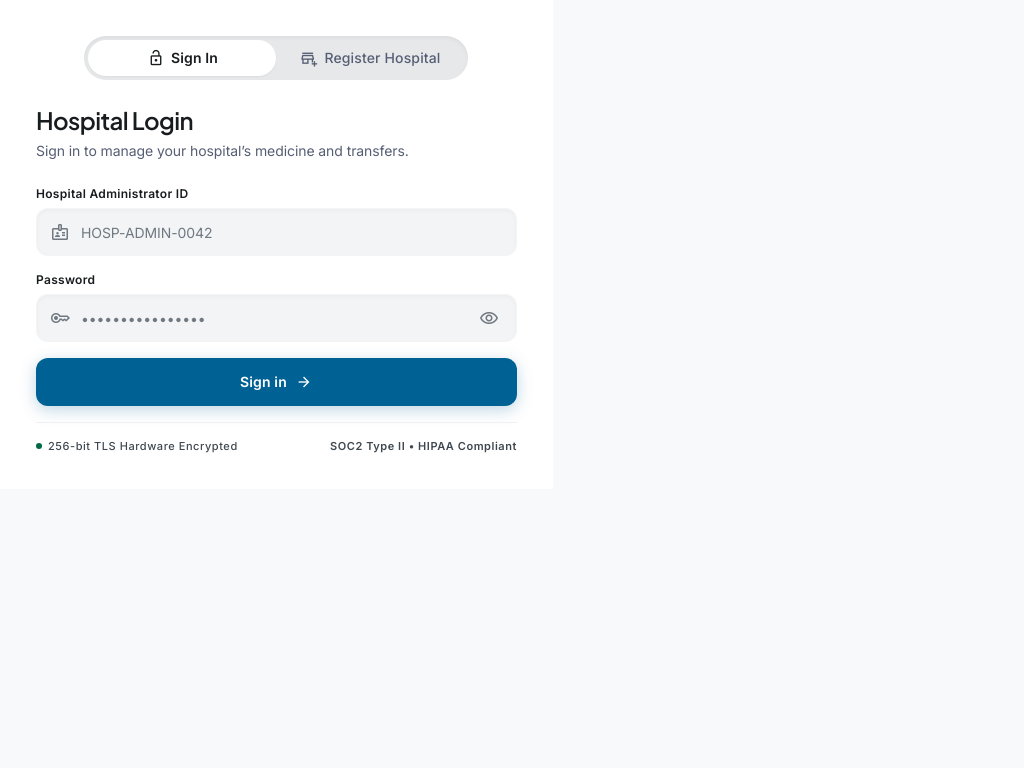
Test: PulseGrid Control Tower Test Suite › AuthFormPanel Component › validates password mismatch during hospital registration
The image size is (1024, 768).
Click the button "Register Hospital" at {"x": 370, "y": 58}, box [276,40,464,76]
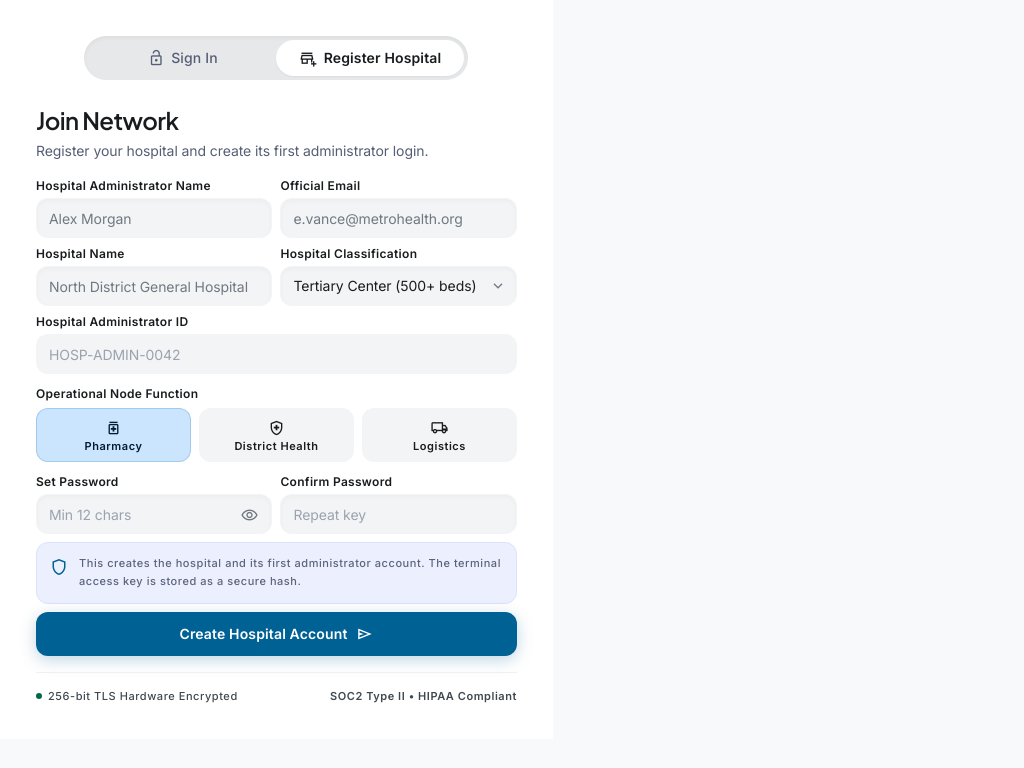
Type "Dr. Elena Vance" into the field labelled "Hospital Administrator Name" at {"x": 154, "y": 218}, box [36,198,272,238]
Type "elena@metrohealth.org" into the field labelled "Official Email" at {"x": 399, "y": 218}, box [280,198,517,238]
Type "Metro General" into the field labelled "Hospital Name" at {"x": 154, "y": 286}, box [36,266,272,306]
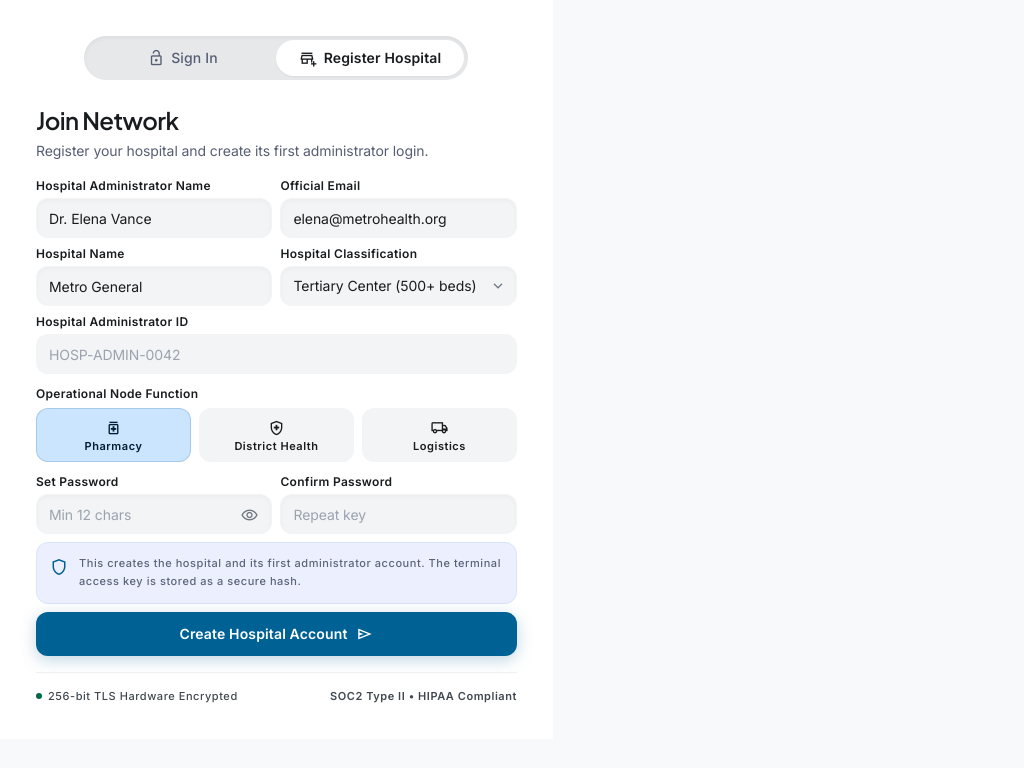
Type "METRO-ADMIN-001" into the field labelled "Hospital Administrator ID" at {"x": 276, "y": 354}, box [36,334,517,374]
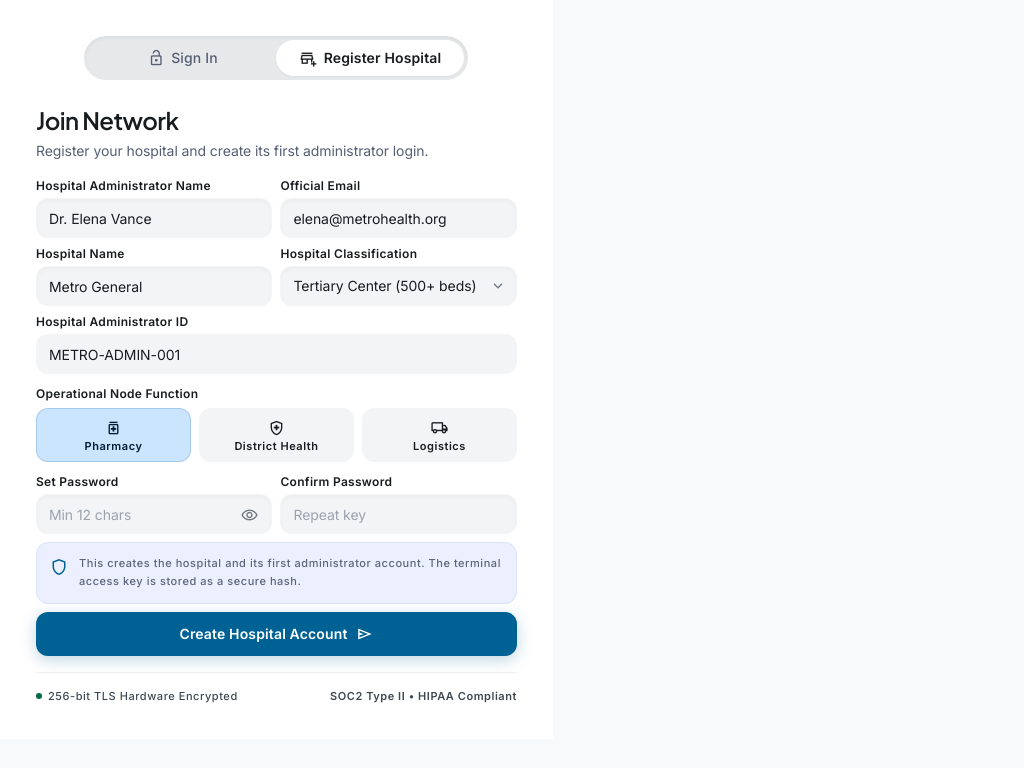
Type "Password1234!" into the password field labelled "Set Password" at {"x": 154, "y": 514}, box [36,494,272,534]
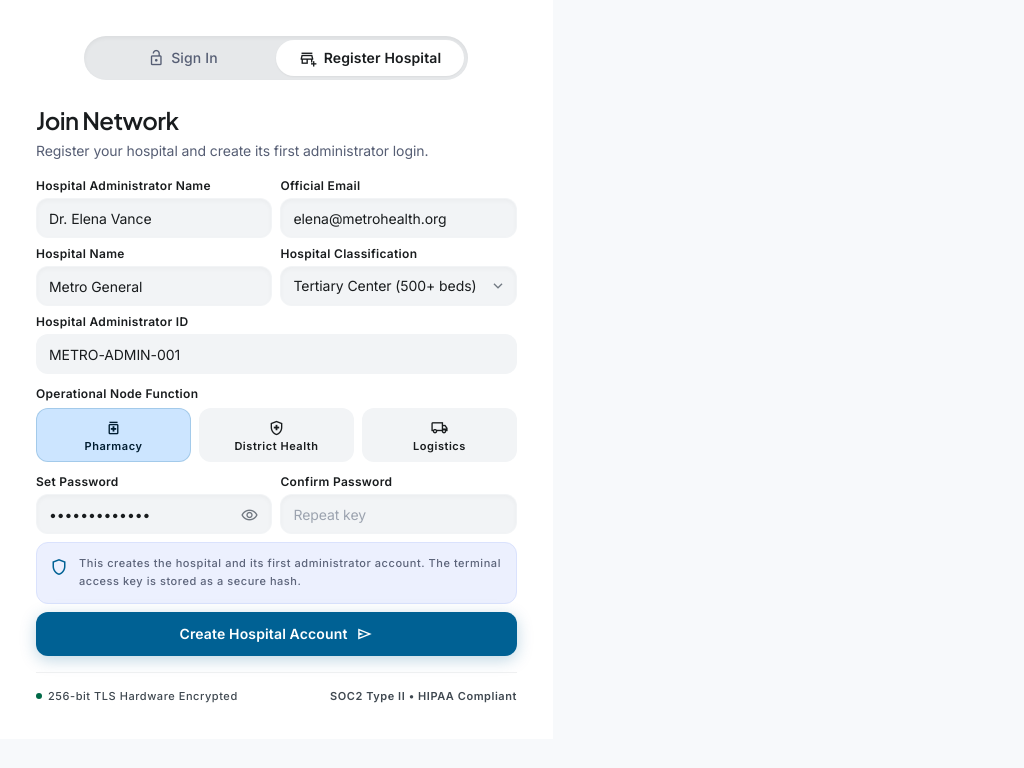
Type "DifferentPassword!" into the password field labelled "Confirm Password" at {"x": 399, "y": 514}, box [280,494,517,534]
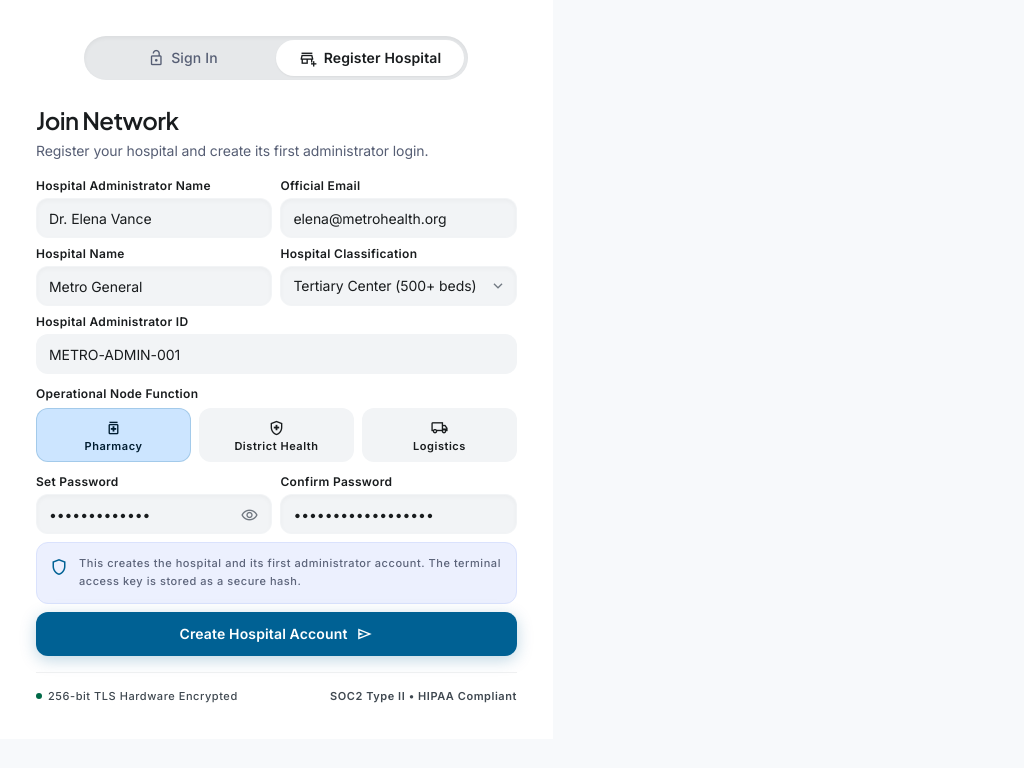
Click the button "Create Hospital Account" at {"x": 276, "y": 634}, box [36,612,517,656]
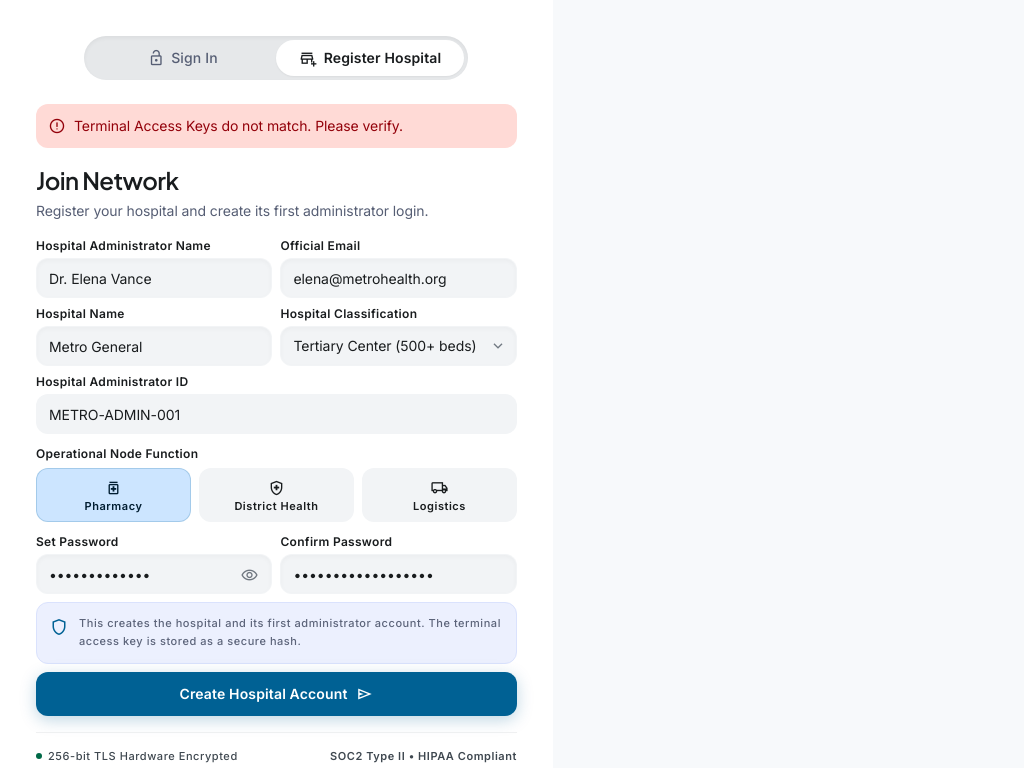
Expected: the text "Terminal Access Keys do not match. Please verify." is shown, [74,116,403,136]
